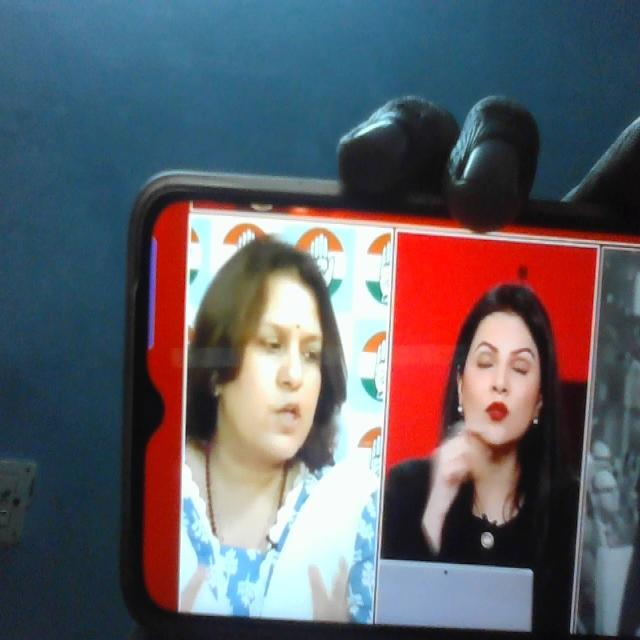fake: (211, 225, 341, 472), (454, 258, 562, 462)
